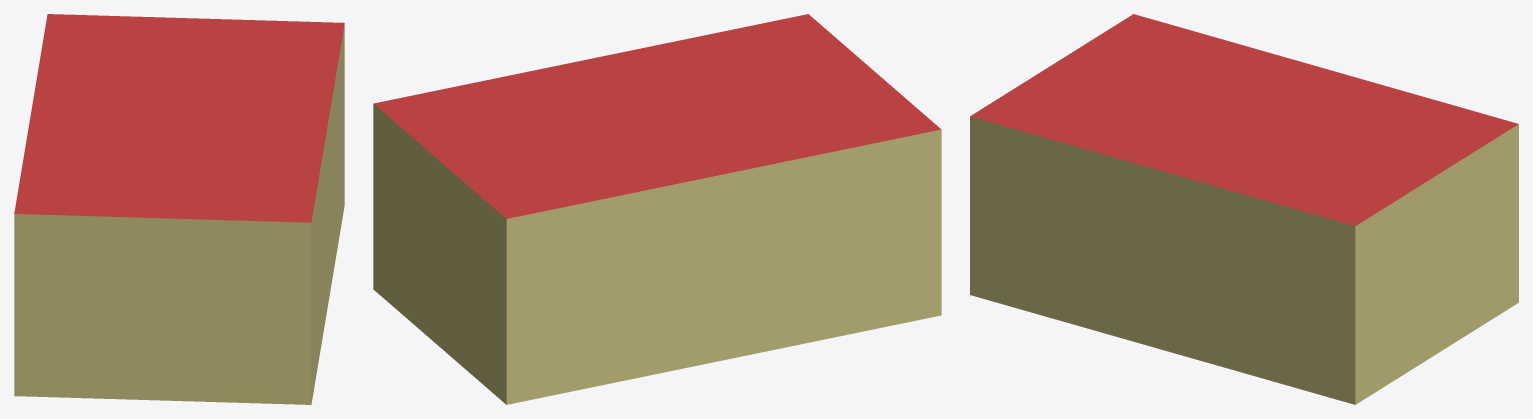
3 views of the same model, side by side, from view 1: azimuth 30°, elevation 25°; view 2: azimuth 150°, elevation 25°; view 3: azimuth 270°, elevation 25° (orthographic). The views are drawn at different scales.
Visible parts, largest first — view 1: group_4, group_3; view 2: group_4, group_3; view 3: group_4, group_3.
Boxes of the visible parts, x1,y1,x2,y2 form: group_4: (14, 24, 344, 404); group_3: (14, 14, 344, 222); group_4: (373, 104, 941, 404); group_3: (373, 14, 941, 218); group_4: (970, 116, 1518, 404); group_3: (970, 14, 1518, 226).
Bounding box in the file's own units: 36.83 × 40.24 × 14.46.
